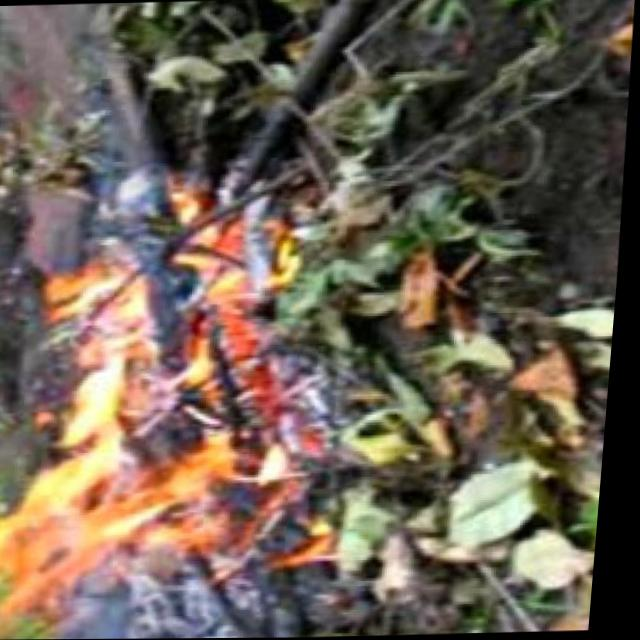Fire: (0, 186, 300, 617)
